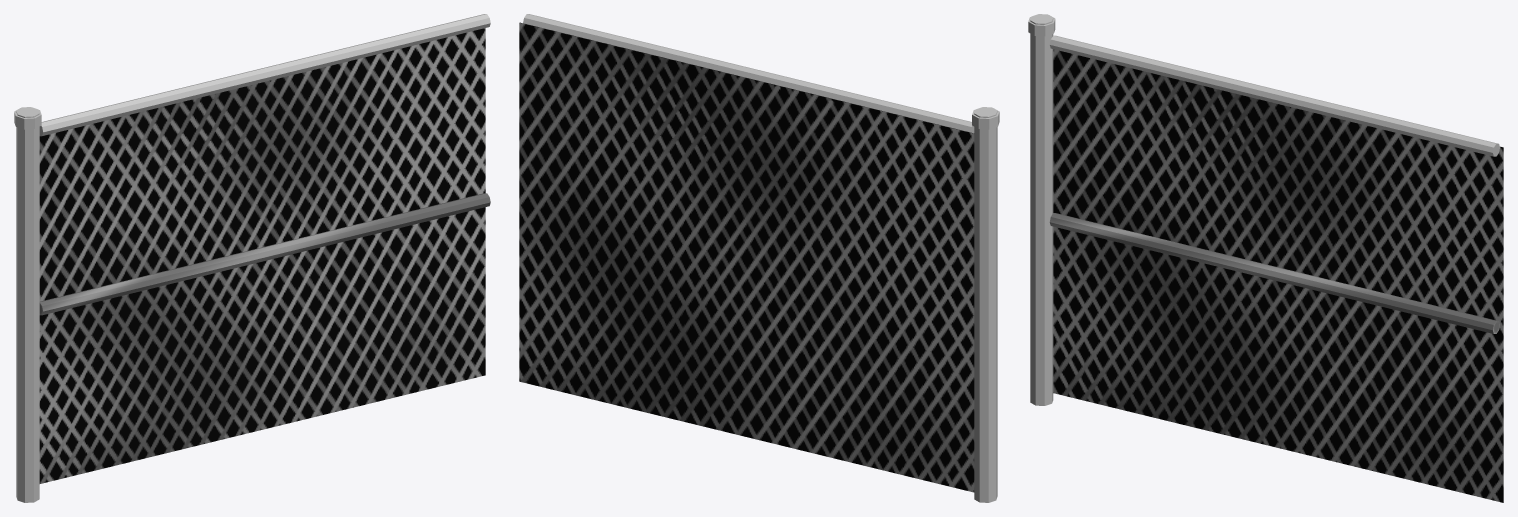
Rendered from Blight's Grasp Fence.fbx.
The picture shows the model from 3 angles, left to right: view 1: azimuth 30°, elevation 25°; view 2: azimuth 150°, elevation 25°; view 3: azimuth 330°, elevation 25°; orthographic projection.
Parts seen in each view (by area): view 1: Chain_Link, Main_Post, Link_Post_Mid, Link_Post_Top; view 2: Chain_Link1, Main_Post, Link_Post_Top; view 3: Chain_Link, Main_Post, Link_Post_Top, Link_Post_Mid.
Part boxes in pixels (box(x1,y1,x2,y2)): Chain_Link: box(39, 28, 485, 483); Main_Post: box(14, 107, 41, 502); Link_Post_Mid: box(39, 193, 490, 315); Link_Post_Top: box(39, 14, 490, 136); Chain_Link1: box(519, 22, 974, 492); Main_Post: box(972, 107, 999, 502); Link_Post_Top: box(523, 14, 974, 133); Chain_Link: box(1053, 49, 1503, 502); Main_Post: box(1028, 14, 1055, 405); Link_Post_Top: box(1049, 35, 1499, 156); Link_Post_Mid: box(1049, 213, 1499, 333).
Size of the model in its own units: 4.94 by 3.84 by 0.2605.
